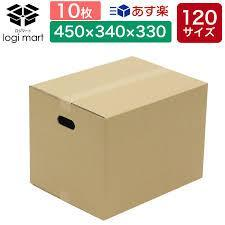box: (29, 56, 208, 220)
